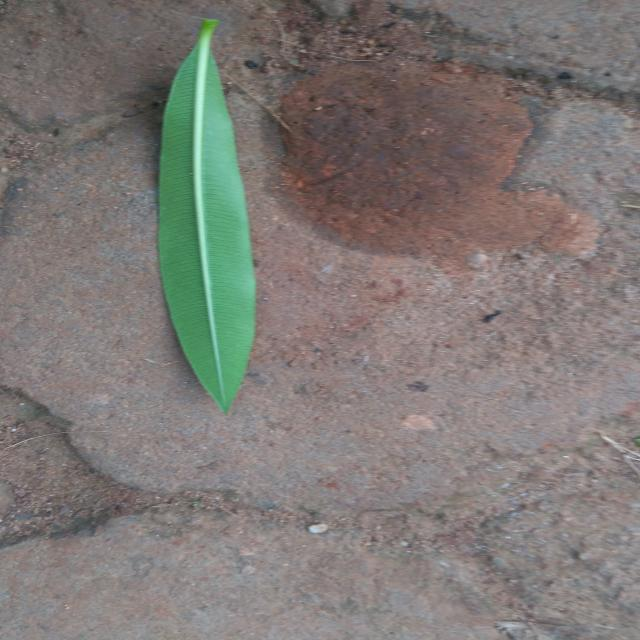ganigale: (158, 20, 256, 412)
